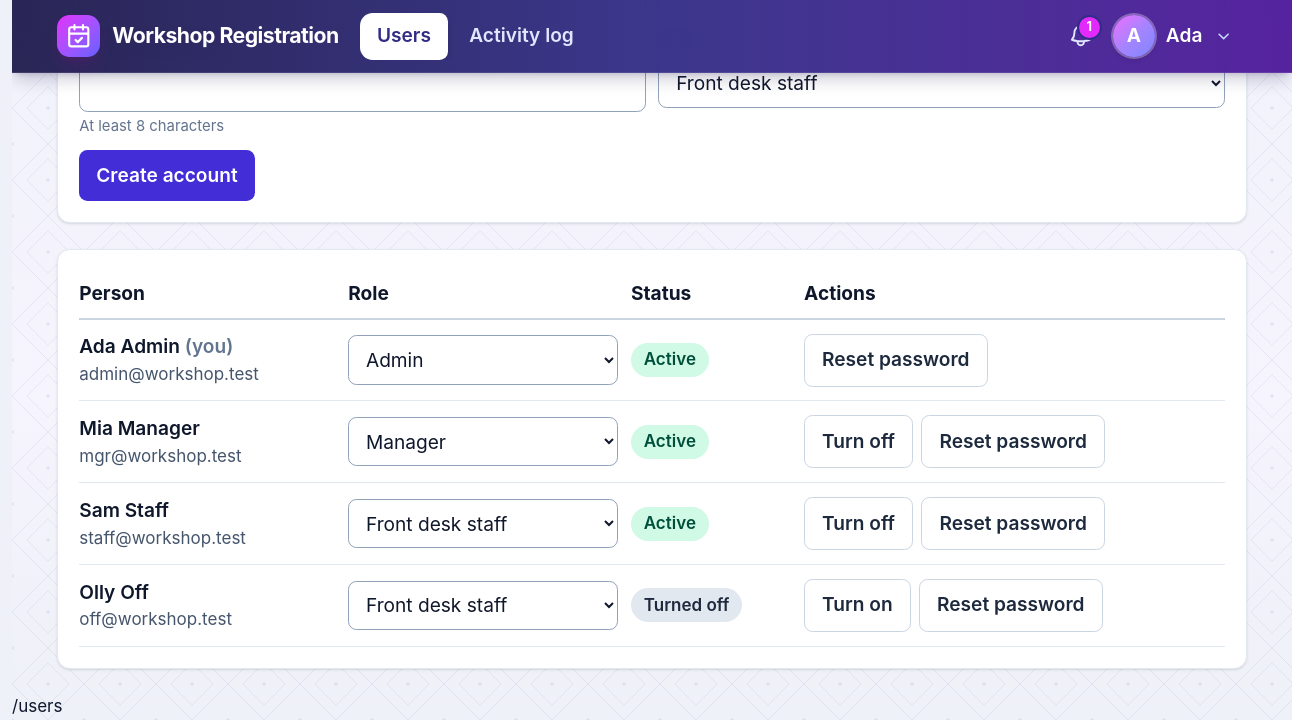
Users page › changes a role
(page scrolled)
expect the text "Sam Staff" is shown: met, box [79, 498, 169, 522]
Step 1. Select "Manager" in the dropdown named "Role for Sam Staff" → (483, 524), box [348, 499, 618, 548]
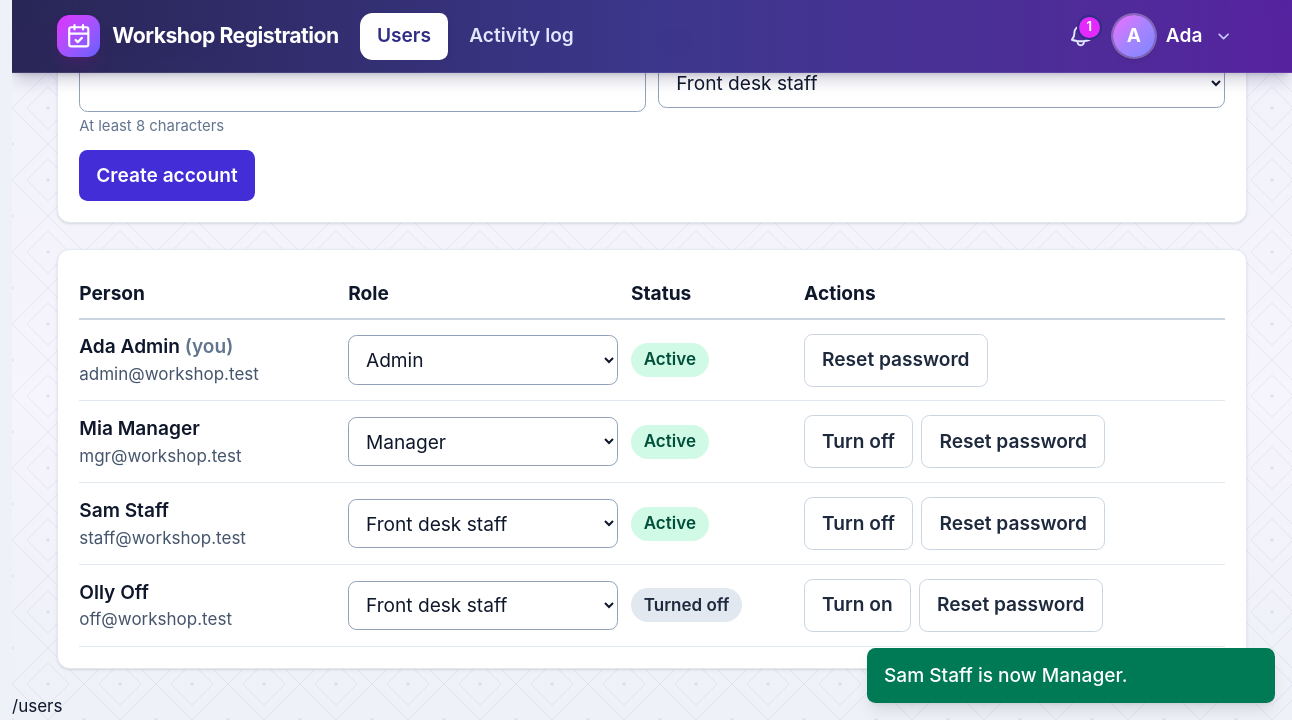
expect the text "Sam Staff is now Manager." is shown: met, box [867, 648, 1275, 703]
